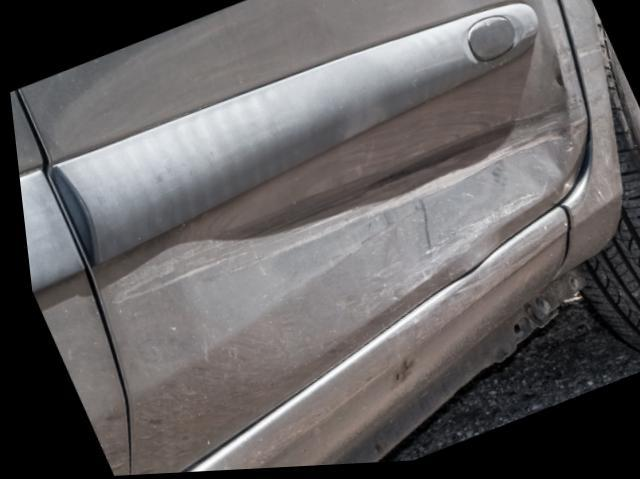crack: (545, 210, 566, 287)
dent: (188, 62, 570, 366)
